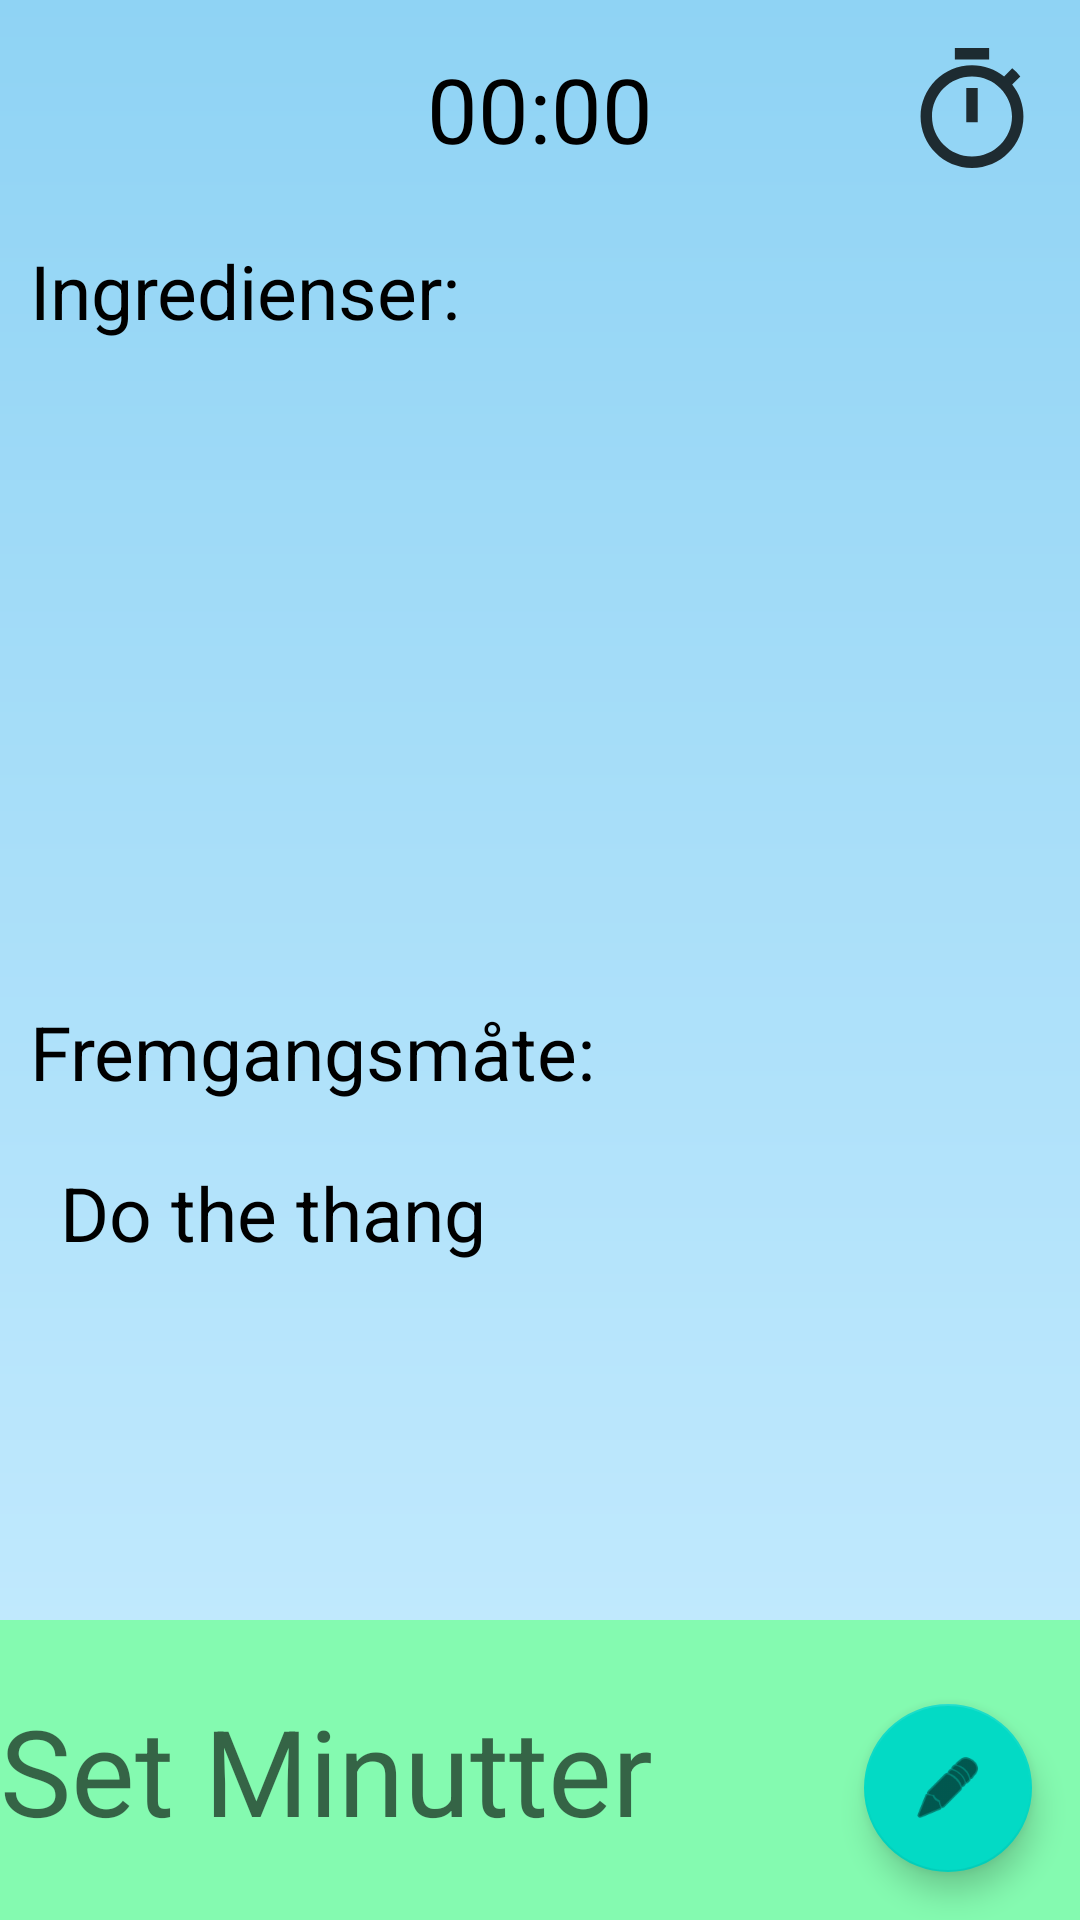

Where to tap for icons on this 1080 × 1920 app screen, as [x,y]:
edit: [948,1788]
timer: [972,108]
